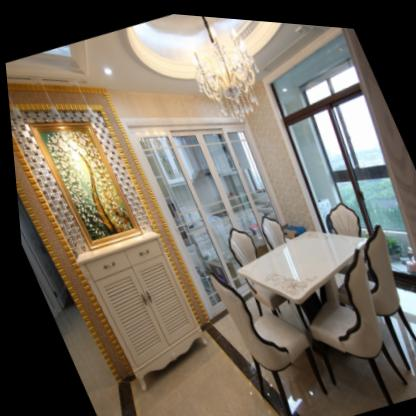Cupboard: (120, 115, 282, 308)
Dining Table: (187, 173, 416, 416)
Sideboard: (72, 230, 198, 382)
